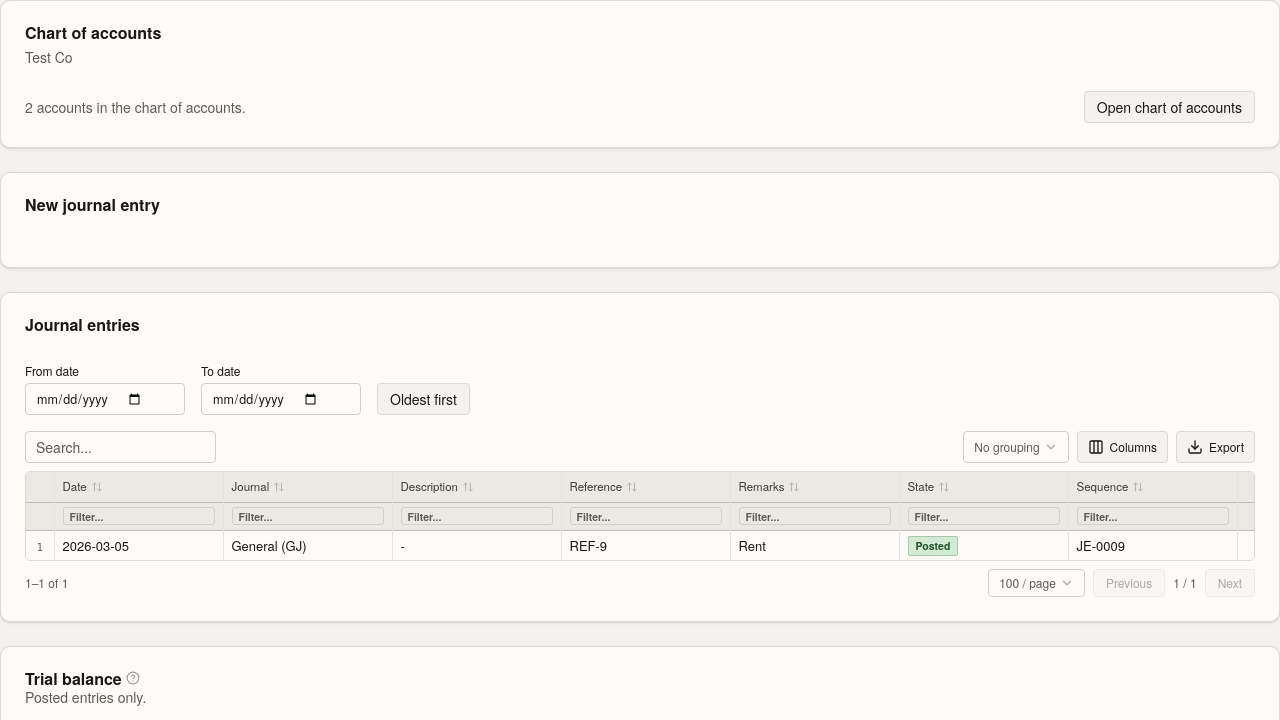
it: ledger ?entry= › opens from a row click
The image size is (1280, 720).
Click the text "REF-9".
click(646, 545)  # box [561,530,730,560]
(page scrolled)
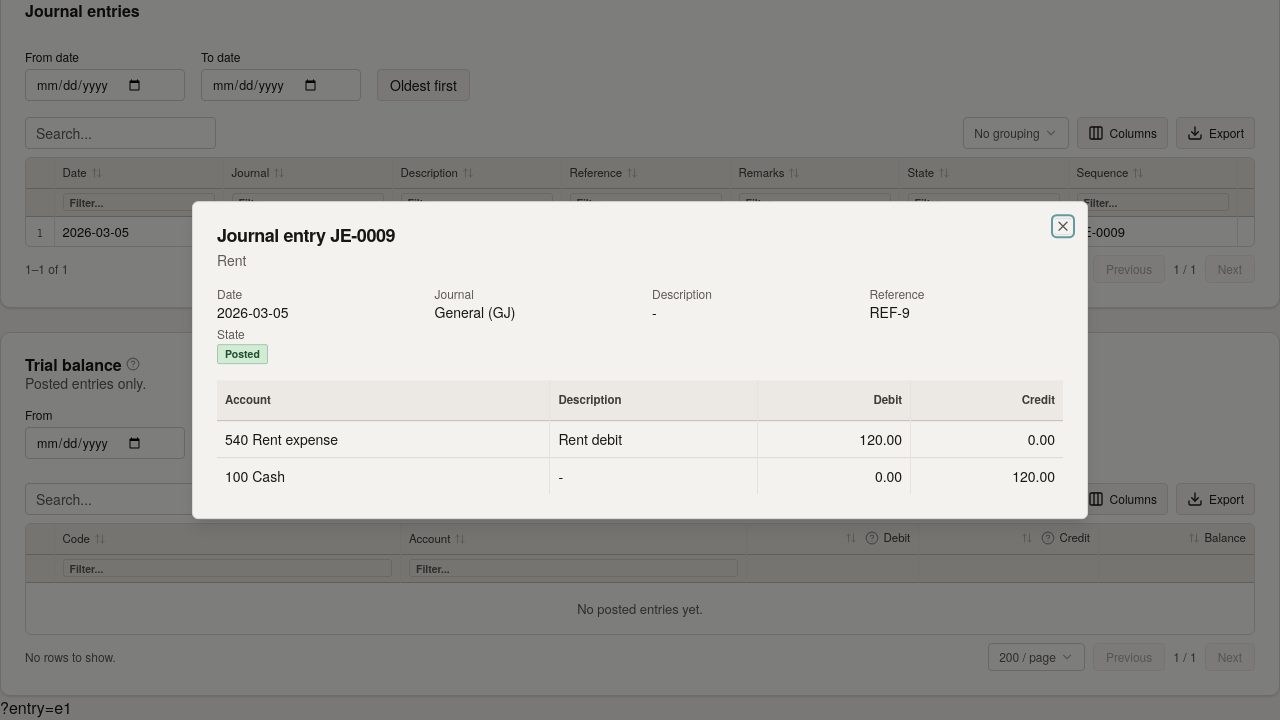
Result: the dialog shows "JE-0009" at [217,222,395,248]
Result: the text with test id "location" reads "?entry=e1" at [0,696,72,719]
